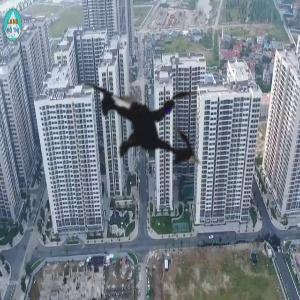drone: (37, 9, 256, 228)
